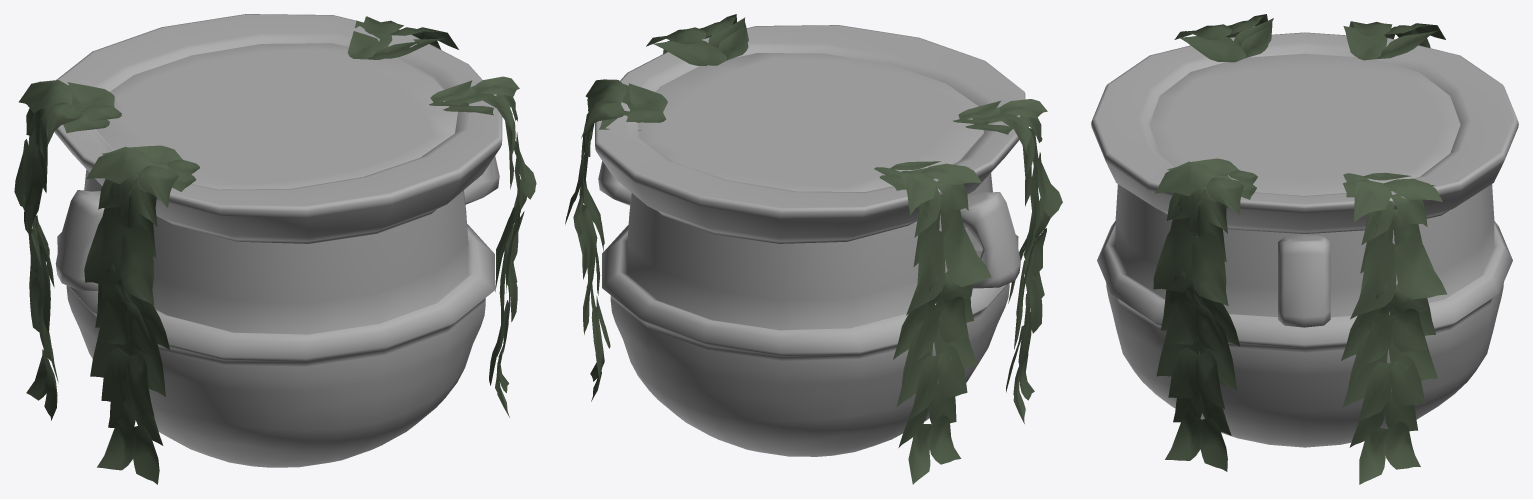
The model's file is M_potplatformfinal.fbx.
3 renders of one model, left to right at view 1: azimuth 30°, elevation 25°; view 2: azimuth 150°, elevation 25°; view 3: azimuth 270°, elevation 25°, orthographic. The views are drawn at different scales.
Parts seen in each view (by area): view 1: polySurface837; view 2: polySurface837; view 3: polySurface837.
Boxes of the visible parts, <box> form: polySurface837: <box>14,14,536,484</box>; polySurface837: <box>565,14,1062,484</box>; polySurface837: <box>1091,14,1518,484</box>.
Bounding box in the file's own units: 1.32 × 1.02 × 1.21.
